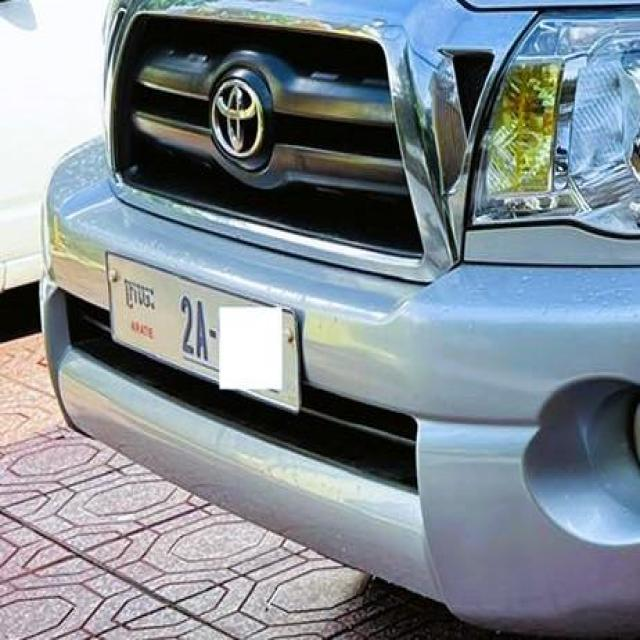Kratie: (122, 276, 156, 316)
